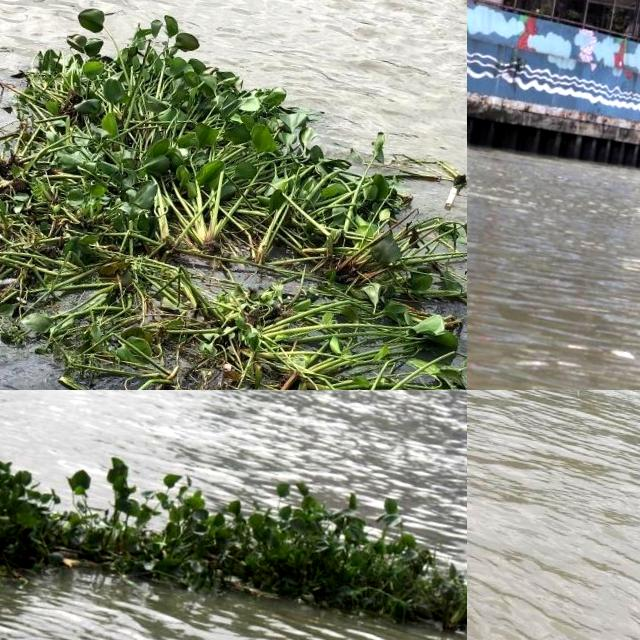water-hyacinth: (1, 10, 469, 391), (1, 409, 468, 640)
